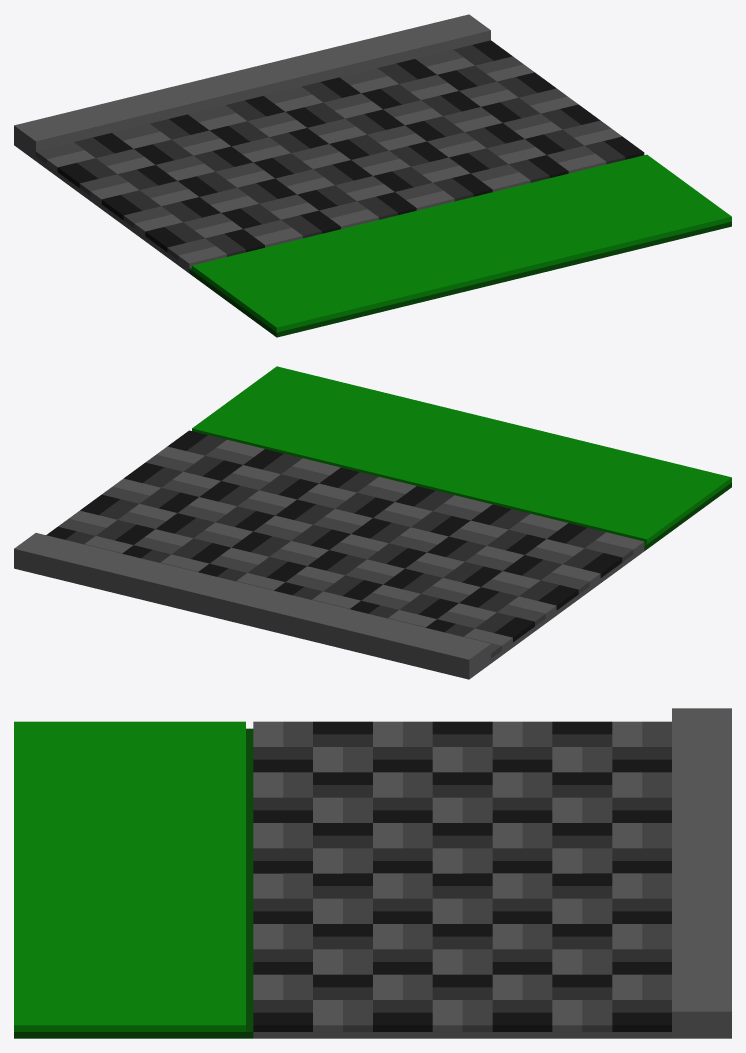
Rendered from brick_ground1.obj.
3 views of the same model, one above another, from view 1: azimuth 30°, elevation 25°; view 2: azimuth 150°, elevation 25°; view 3: azimuth 270°, elevation 25° (orthographic). The views are drawn at different scales.
Size of the model in its own units: 9.6 by 0.4 by 9.6.
Materials: 1 (1 with a texture image).
